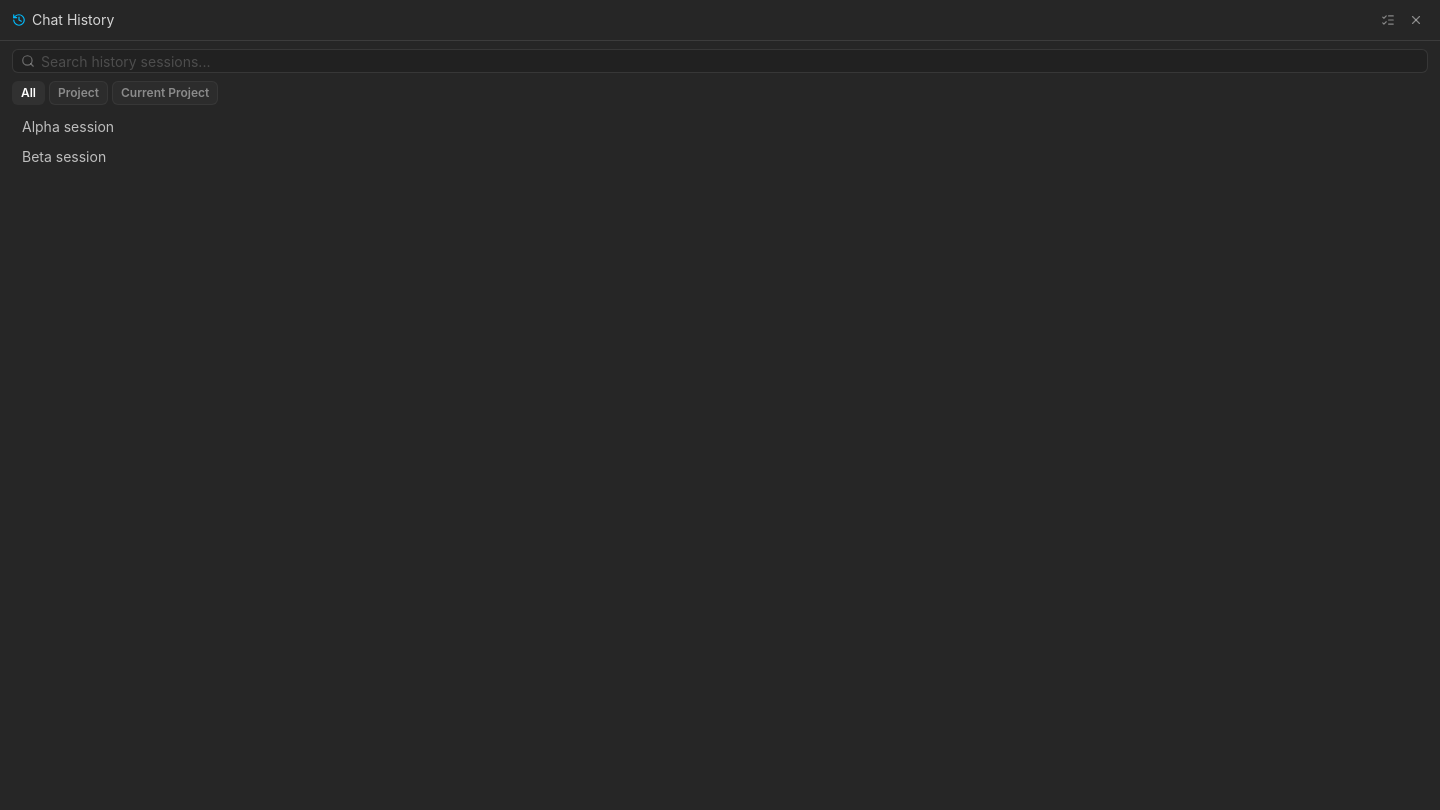
Test: AgentHistoryPanel › 多选模式下点击复选框不会重复切换勾选
Click the button named "Select Sessions" at (1388, 20), box [1376,8,1400,32]
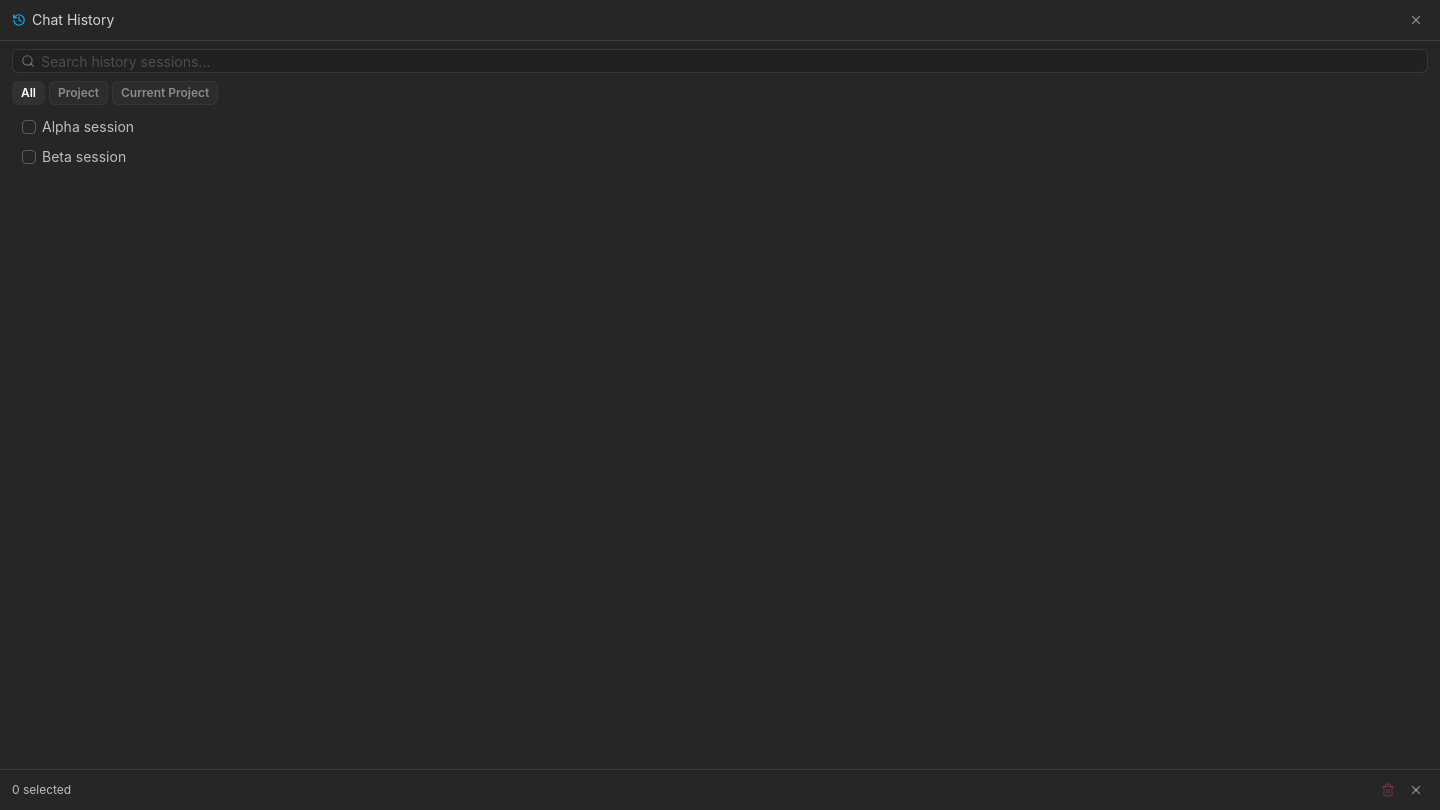
Click the checkbox named "Alpha session" at (29, 127), box [22,120,36,134]
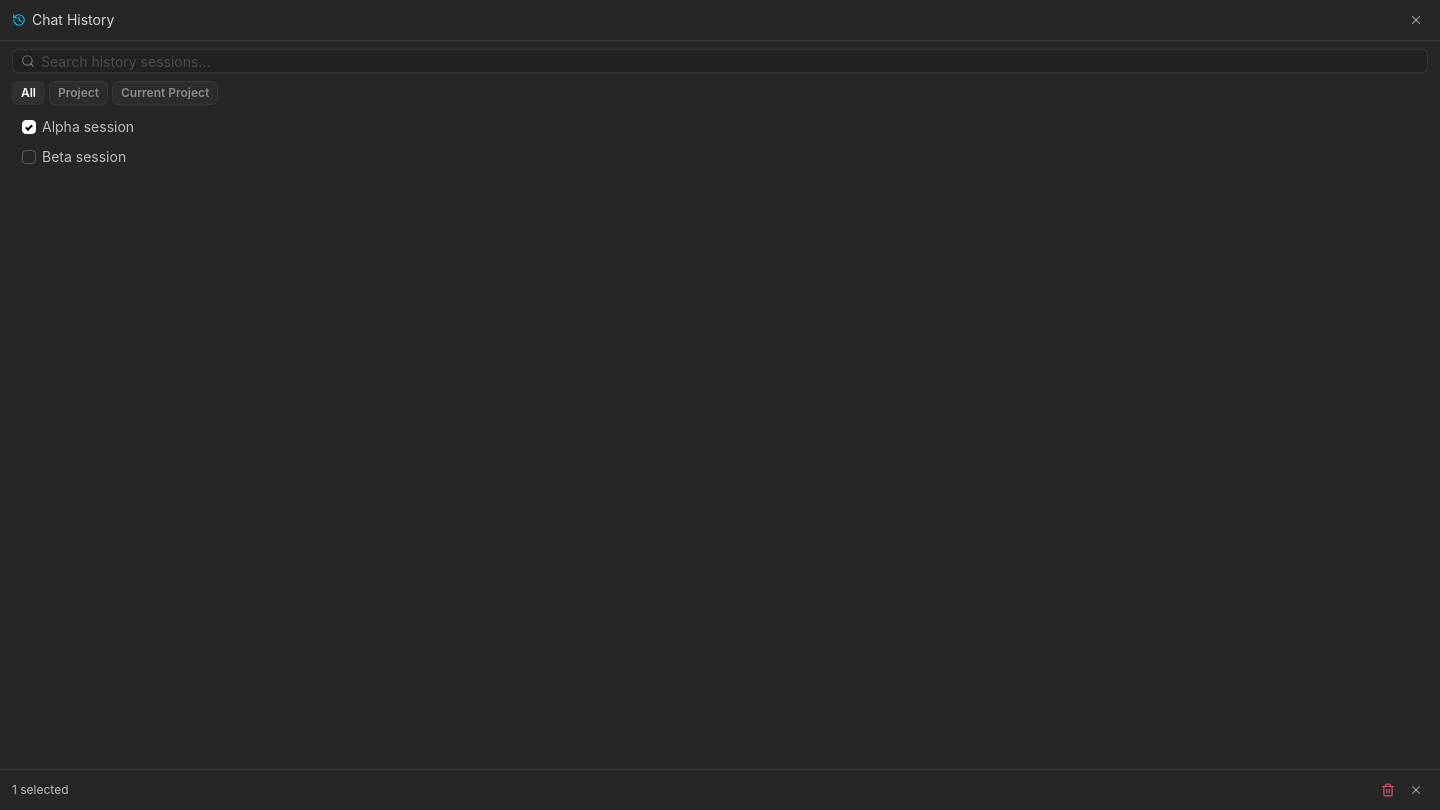
Expected: the text "1 selected" is shown, [12,782,68,798]
Click the checkbox named "Alpha session" at (29, 127), box [22,120,36,134]
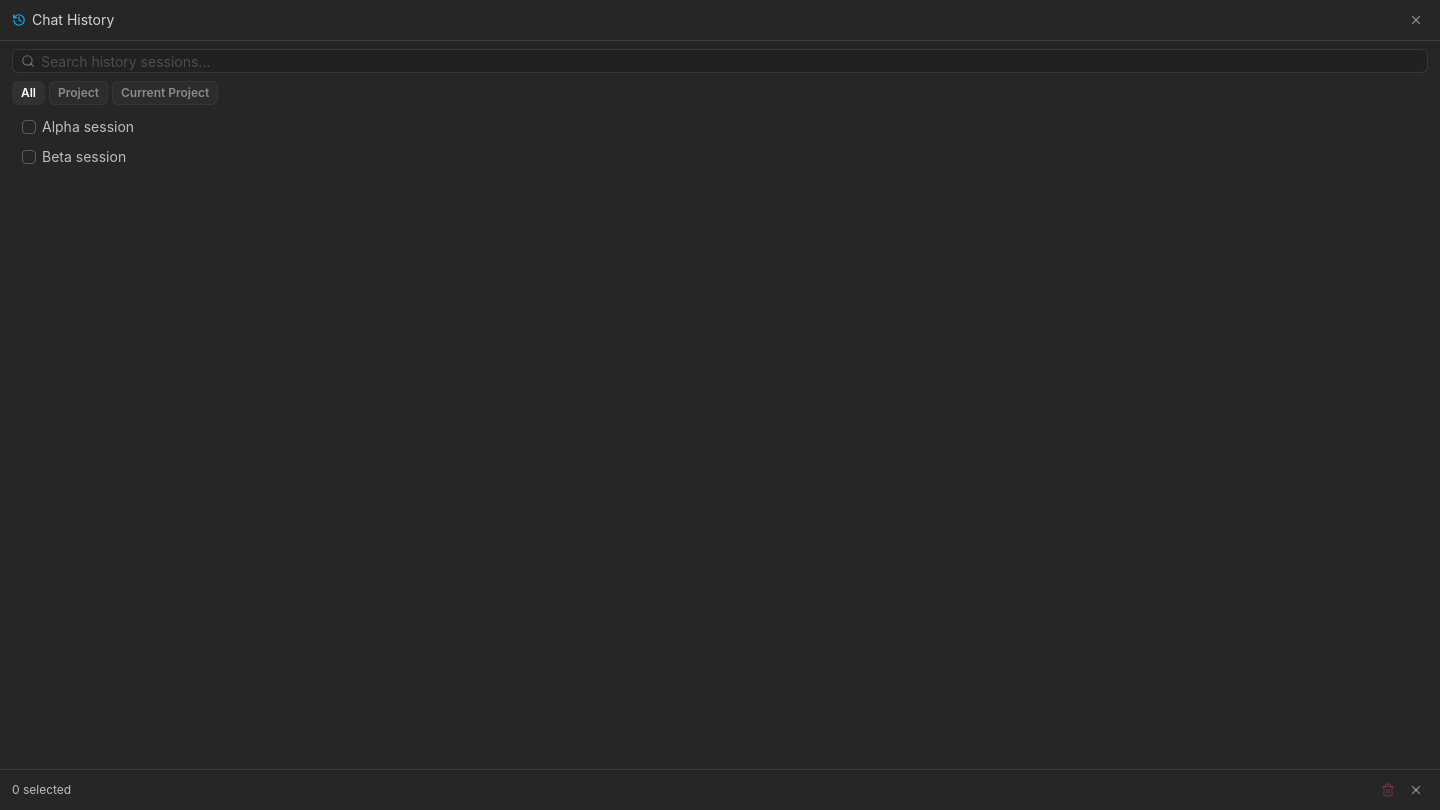
Expected: the text "0 selected" is shown, [12,782,71,798]
